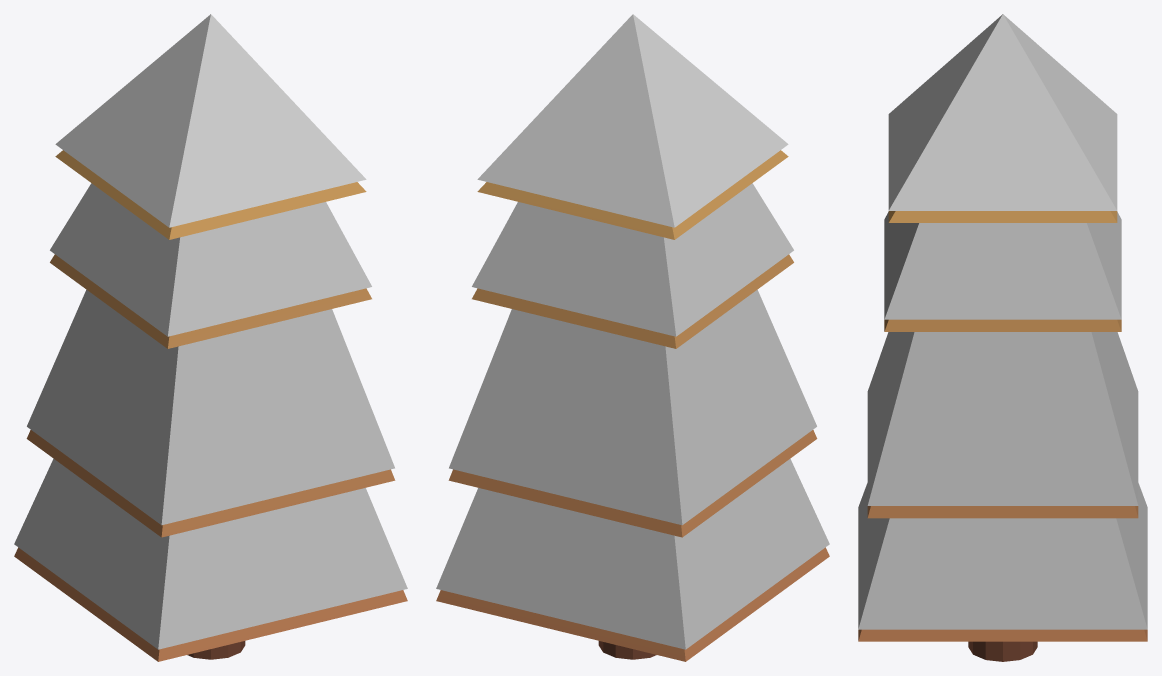
File: Tree_17_winter_gradient_yellow_vc.fbx
The picture shows the model from 3 angles, left to right: view 1: azimuth 30°, elevation 25°; view 2: azimuth 150°, elevation 25°; view 3: azimuth 270°, elevation 25°; orthographic projection.
Parts seen in each view (by area): view 1: Tree_17_winter_gradient_yellow_vc; view 2: Tree_17_winter_gradient_yellow_vc; view 3: Tree_17_winter_gradient_yellow_vc.
Boxes of the visible parts, box(x1,y1,x2,y2) form: Tree_17_winter_gradient_yellow_vc: box(14, 14, 407, 661); Tree_17_winter_gradient_yellow_vc: box(436, 14, 829, 661); Tree_17_winter_gradient_yellow_vc: box(858, 14, 1147, 661).
Bounding box in the file's own units: 65.5 × 158 × 65.5.
